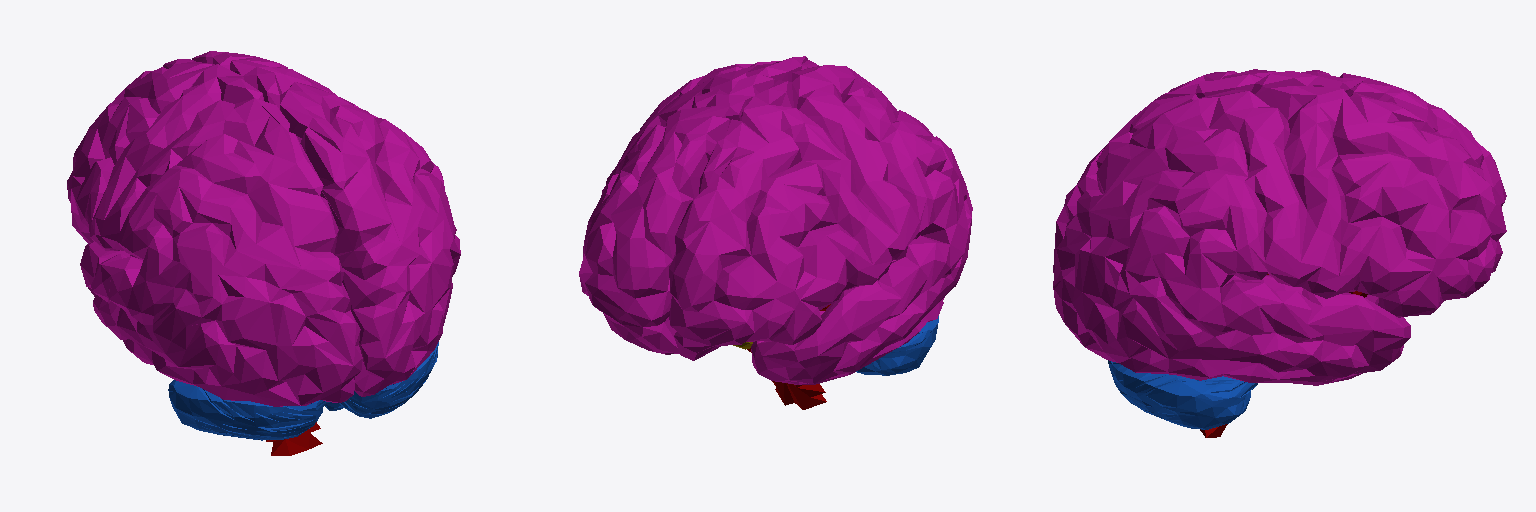
The model's file is Brain.obj.
The picture shows the model from 3 angles: view 1: azimuth 30°, elevation 25°; view 2: azimuth 150°, elevation 25°; view 3: azimuth 270°, elevation 25°; orthographic projection.
Parts seen in each view (by area): view 1: Brain_2, Brain_1, Cerebellum, Stem; view 2: Brain_2, Brain_1, Cerebellum, Stem; view 3: Brain_1, Brain_2, Cerebellum.
Boxes of the visible parts, x1,y1,x2,y2 form: Brain_2: [67, 59, 362, 406]; Brain_1: [192, 51, 460, 396]; Cerebellum: [168, 342, 438, 440]; Stem: [266, 422, 322, 455]; Brain_2: [669, 65, 972, 384]; Brain_1: [579, 56, 818, 354]; Cerebellum: [856, 316, 938, 375]; Stem: [747, 304, 830, 409]; Brain_1: [1053, 86, 1506, 385]; Brain_2: [1053, 69, 1506, 272]; Cerebellum: [1108, 360, 1257, 429].
Size of the model in its own units: 153 by 162 by 191.